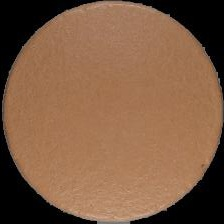54868-5840: (0, 0, 224, 224)
